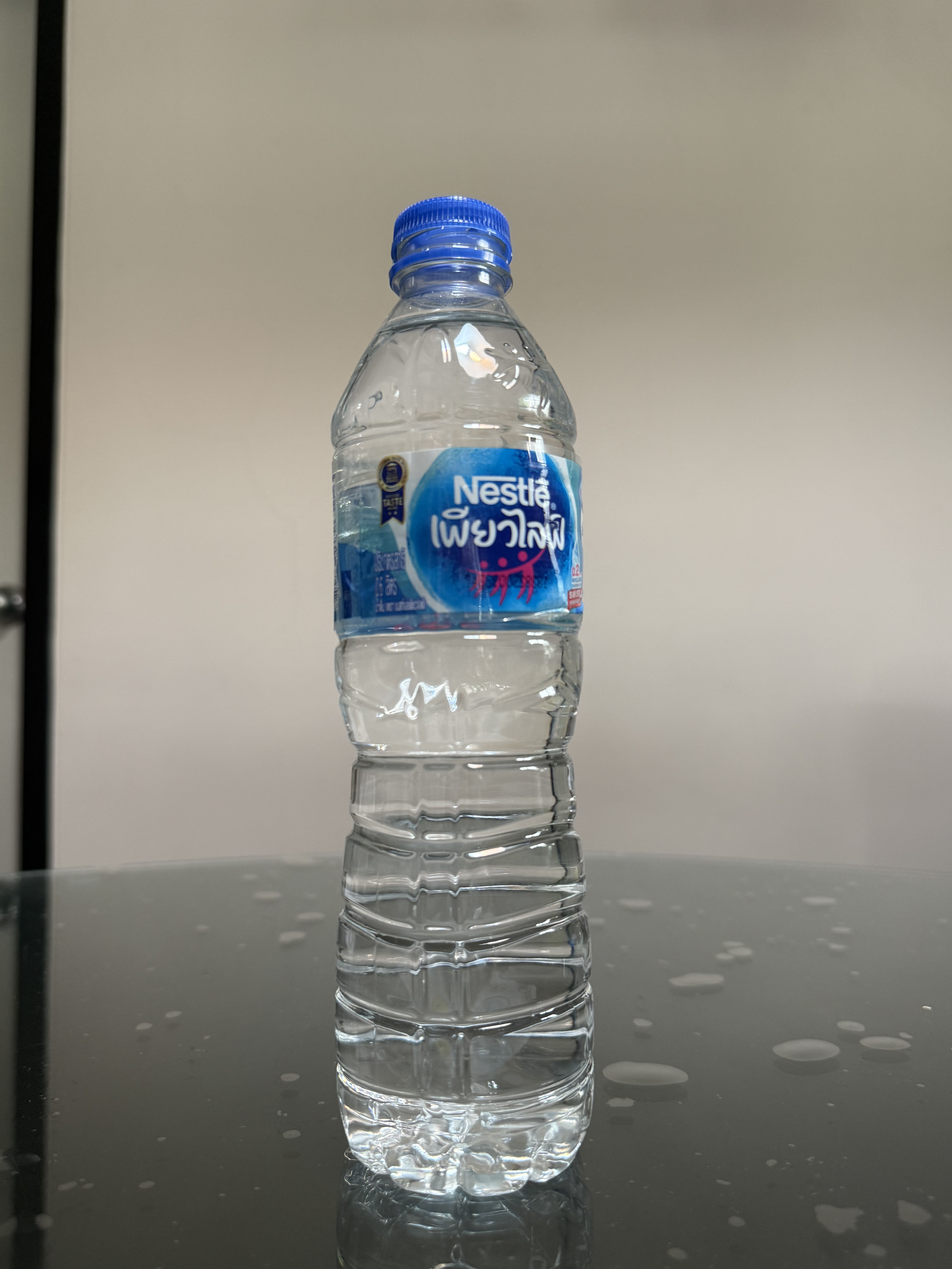half_cap: (386, 192, 515, 296)
